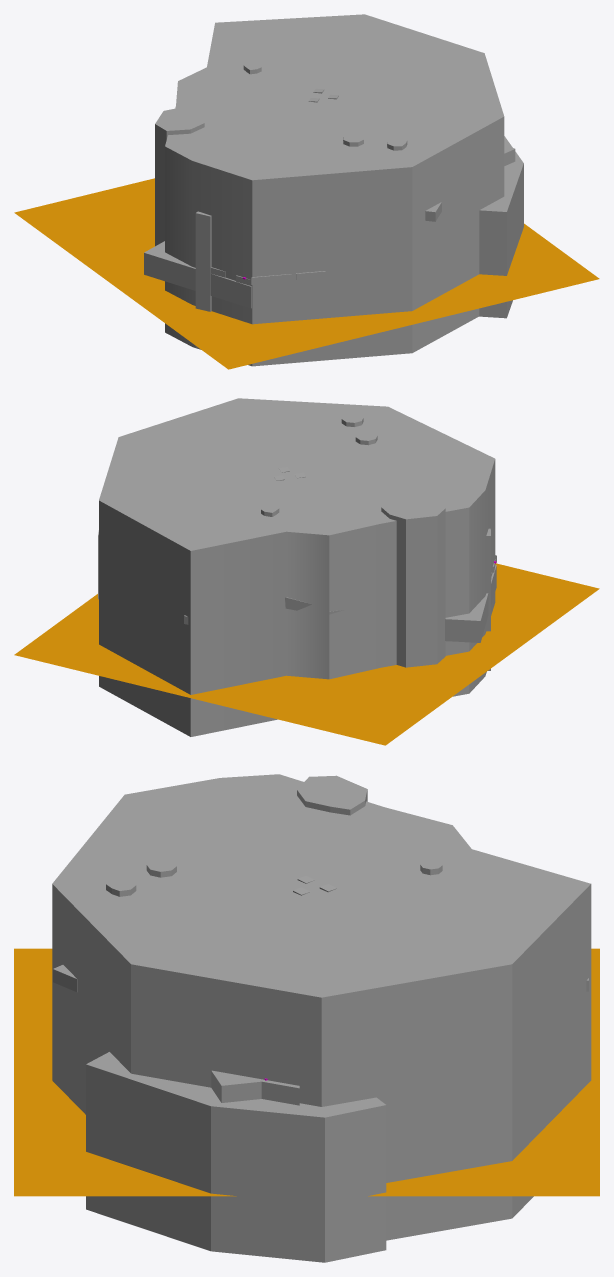
The model's file is env_level4_finalBossV2.fbx.
3 views of the same model, one above another, from view 1: azimuth 30°, elevation 25°; view 2: azimuth 150°, elevation 25°; view 3: azimuth 270°, elevation 25° (orthographic). The views are drawn at different scales.
Visible parts, largest first — view 1: pCylinder4, pPlane1, pCube24, pCube15, pCylinder3, pCube5; view 2: pCylinder4, pPlane1, pCylinder3, pCube15, pCube5; view 3: pCylinder4, pCube24, pPlane1, pCylinder3, pCube27.
Boxes of the visible parts, box(x1,y1,x2,y2) form: pCylinder4: box(165, 14, 504, 366); pPlane1: box(14, 178, 599, 369); pCube24: box(479, 136, 523, 318); pCube15: box(144, 241, 251, 308); pCylinder3: box(155, 107, 204, 246); pCube5: box(195, 211, 211, 348); pCylinder4: box(99, 398, 495, 736); pPlane1: box(14, 563, 599, 745); pCylinder3: box(381, 498, 445, 667); pCube15: box(445, 565, 496, 642); pCube5: box(486, 528, 490, 670); pCylinder4: box(52, 774, 591, 1240); pCube24: box(86, 1052, 386, 1262); pPlane1: box(14, 948, 599, 1196); pCylinder3: box(297, 775, 367, 815); pCube27: box(211, 1070, 299, 1105).
Size of the model in its own units: 22777 by 10914 by 22000.
